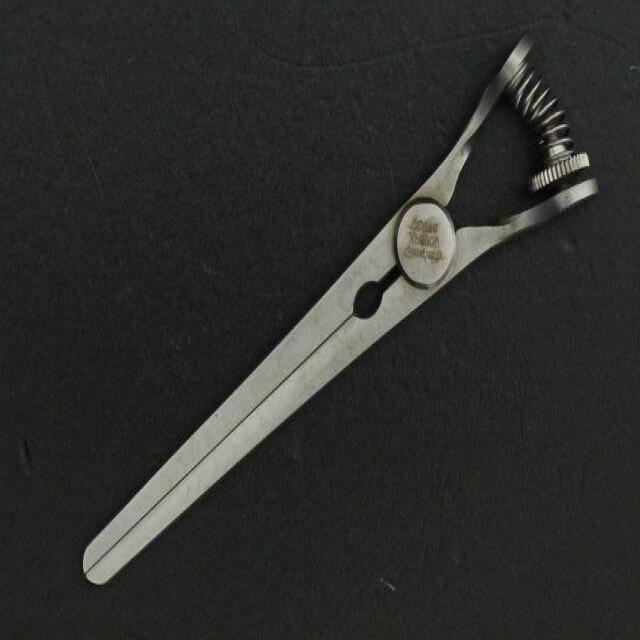Bulldog: (77, 30, 603, 595)
